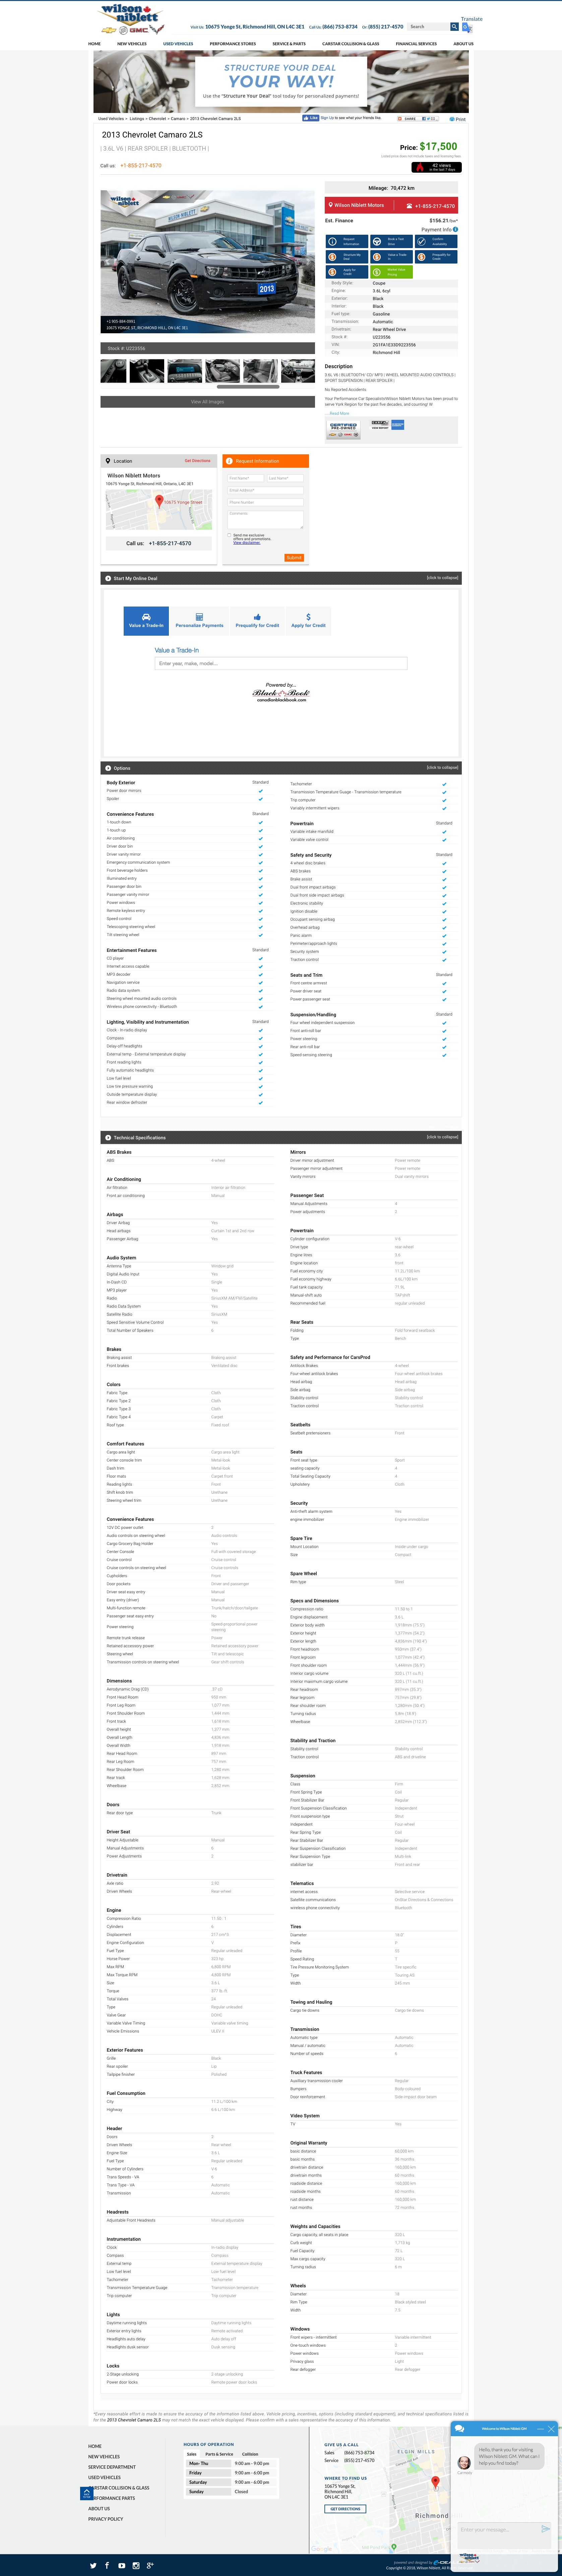car: (301, 255, 316, 271)
